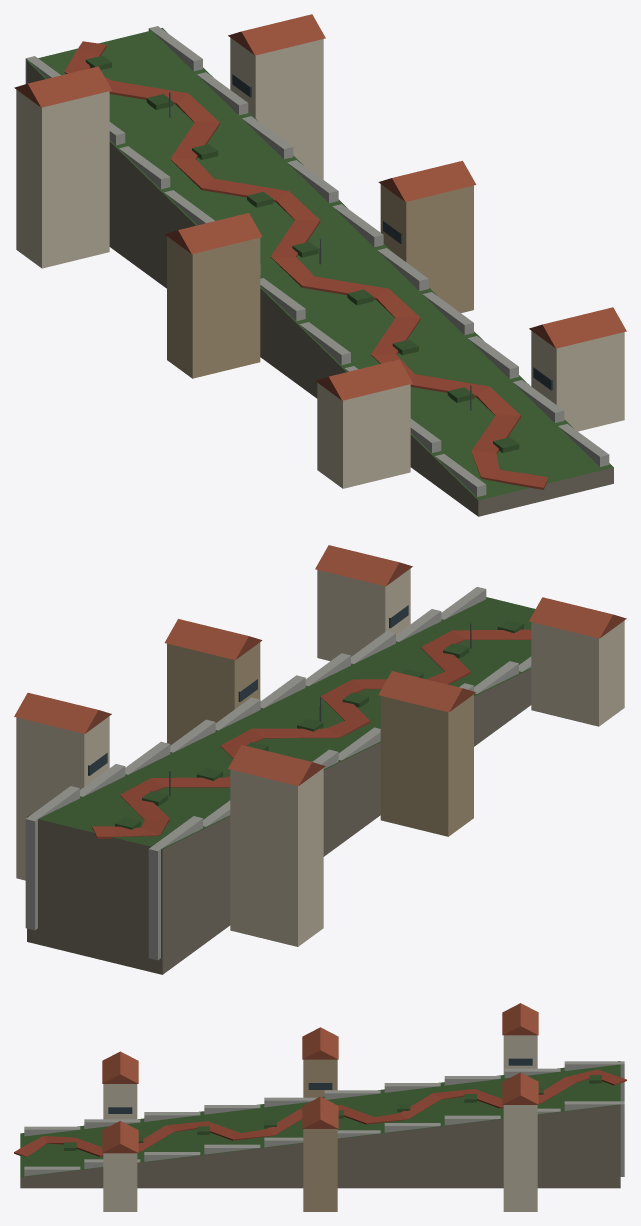
Rendered from mobile.glb.
3 renders of one model, top to bottom at view 1: azimuth 30°, elevation 25°; view 2: azimuth 150°, elevation 25°; view 3: azimuth 270°, elevation 25°, orthographic. The views are drawn at different scales.
Parts seen in each view (by area): view 1: lm.lombard-crooked; view 2: lm.lombard-crooked; view 3: lm.lombard-crooked.
Boxes of the visible parts, x1,y1,x2,y2 form: lm.lombard-crooked: (14,14,626,516); lm.lombard-crooked: (14,545,626,974); lm.lombard-crooked: (14,1003,626,1211).
Bounding box in the file's own units: 54.6 × 32.27 × 153.
